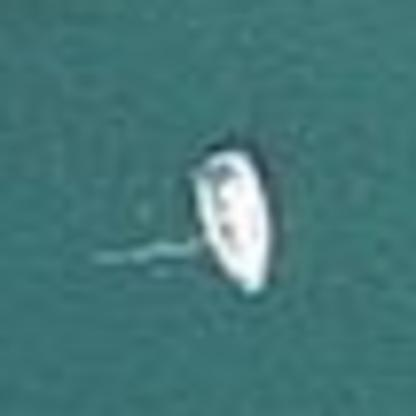ship: (176, 137, 296, 301)
